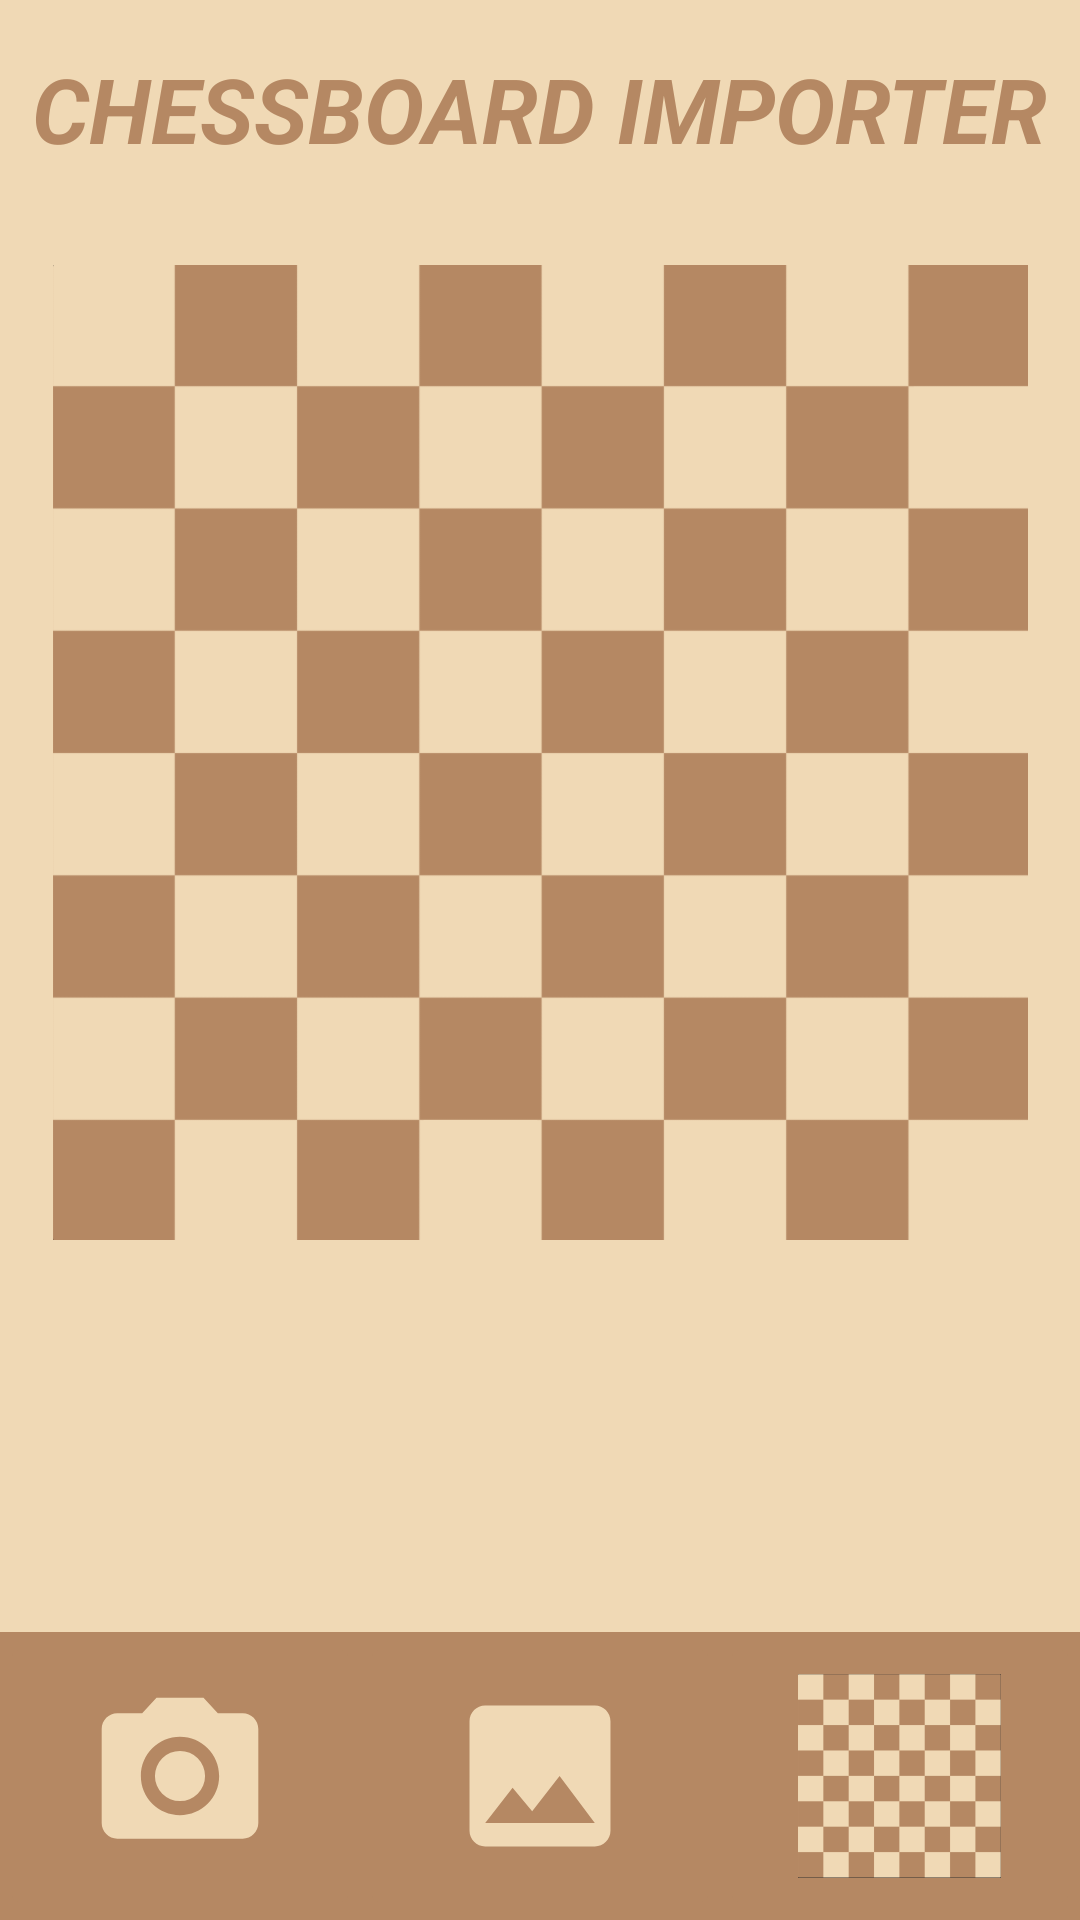

Icon bounding boxes for this 1080w x 1920h phone screenshot, format (x1, y1, x2, y2):
go to chessboard activity: (798, 1674, 1001, 1878)
Import Photo: (469, 1705, 611, 1847)
Take Photo: (101, 1698, 259, 1839)
